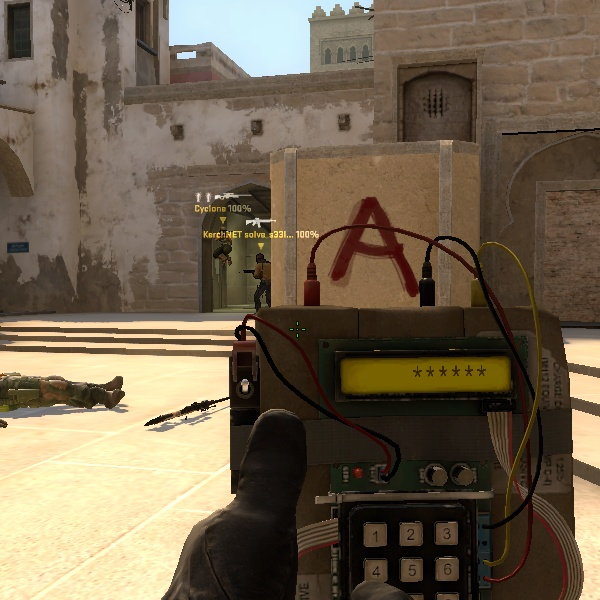t_body: (242, 249, 275, 312)
